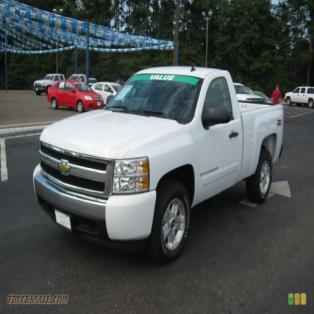Auto: (32, 61, 286, 268)
